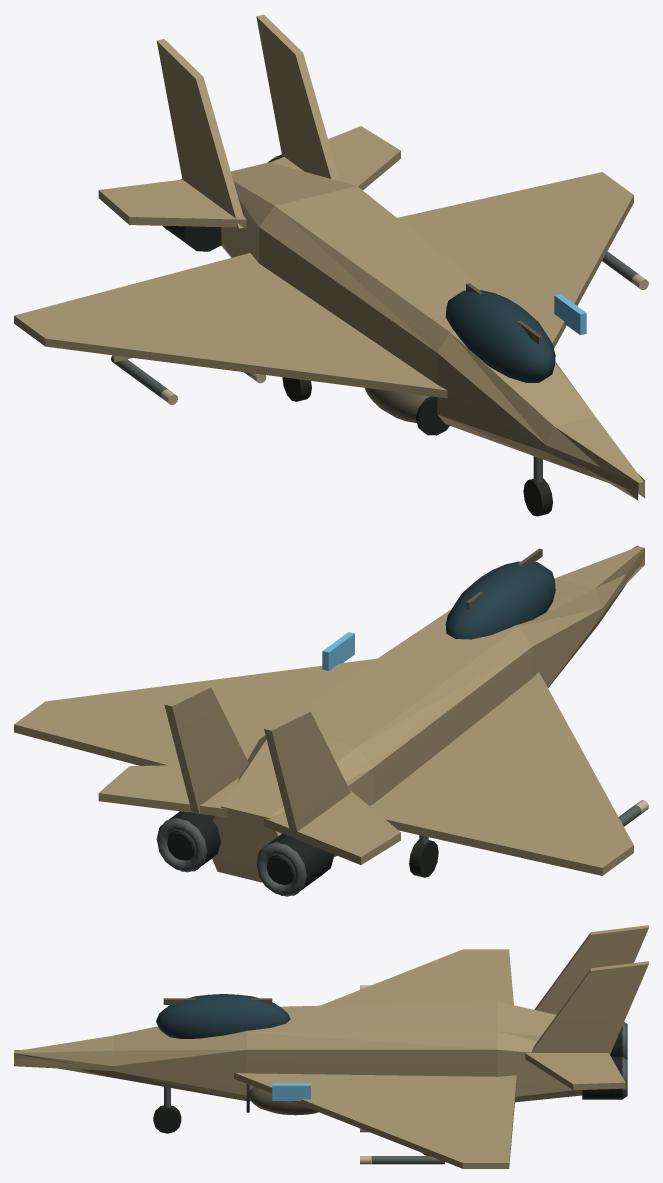
The model's file is interceptor.glb.
The picture shows the model from 3 angles, top to bottom: view 1: azimuth 30°, elevation 25°; view 2: azimuth 150°, elevation 25°; view 3: azimuth 270°, elevation 25°; orthographic projection. The views are drawn at different scales.
Visible parts, largest first — view 1: armor, equipment (×2), glass, marking; view 2: armor, equipment (×2), glass, marking; view 3: armor, glass, equipment (×2), marking.
Part boxes in pixels (x1,y1,x2,y2): armor: [14, 14, 644, 500]; equipment (×2): [111, 154, 648, 516]; glass: [445, 290, 555, 382]; marking: [554, 294, 586, 335]; armor: [14, 545, 644, 882]; equipment (×2): [156, 548, 648, 896]; glass: [445, 561, 555, 639]; marking: [322, 632, 354, 670]; armor: [14, 925, 648, 1168]; glass: [156, 994, 290, 1038]; equipment (×2): [153, 985, 627, 1164]; marking: [272, 1083, 310, 1100].
Size of the model in its own units: 6.5 by 2.64 by 8.17.
